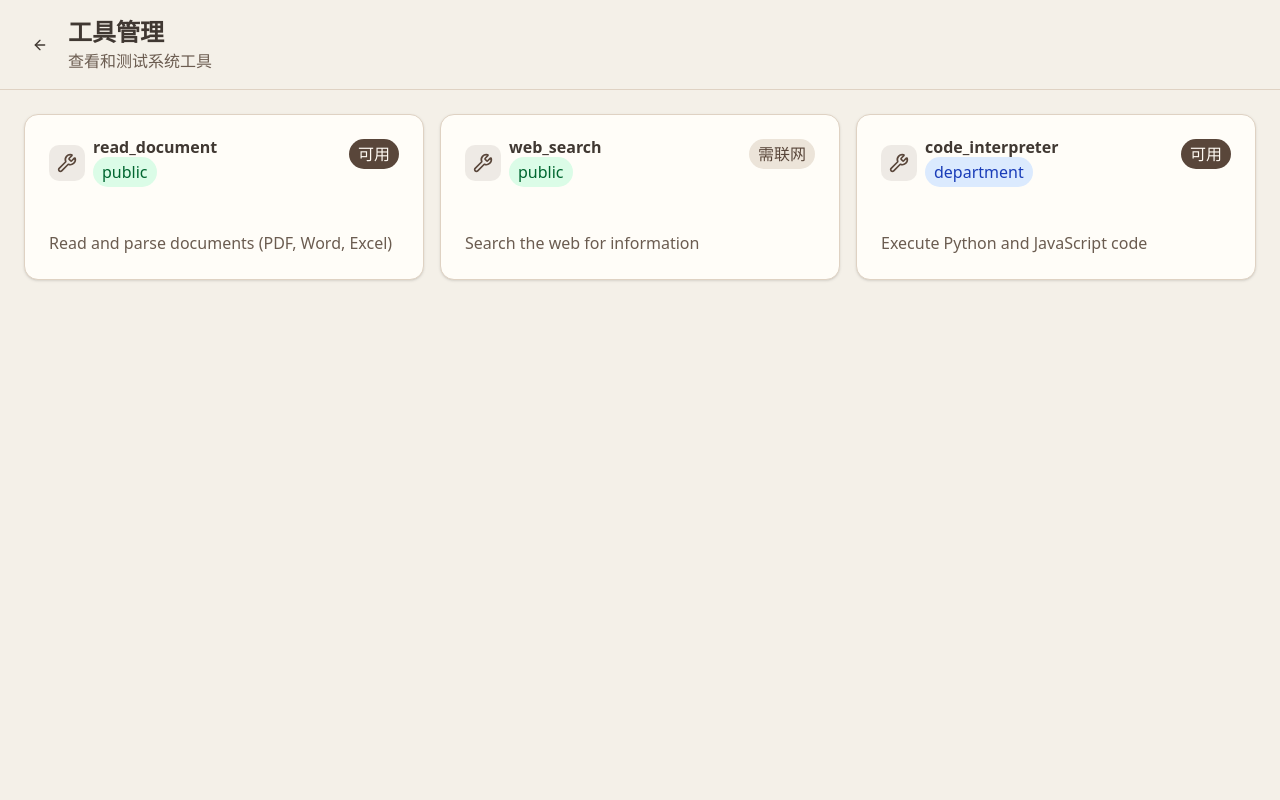
Test: ToolsPage › closes detail dialog when close button is clicked
Check: the element with test id "tool-list" is shown, box [24, 114, 1256, 280]
Click the element with test id "tool-card" at (224, 197), box [24, 114, 424, 280]
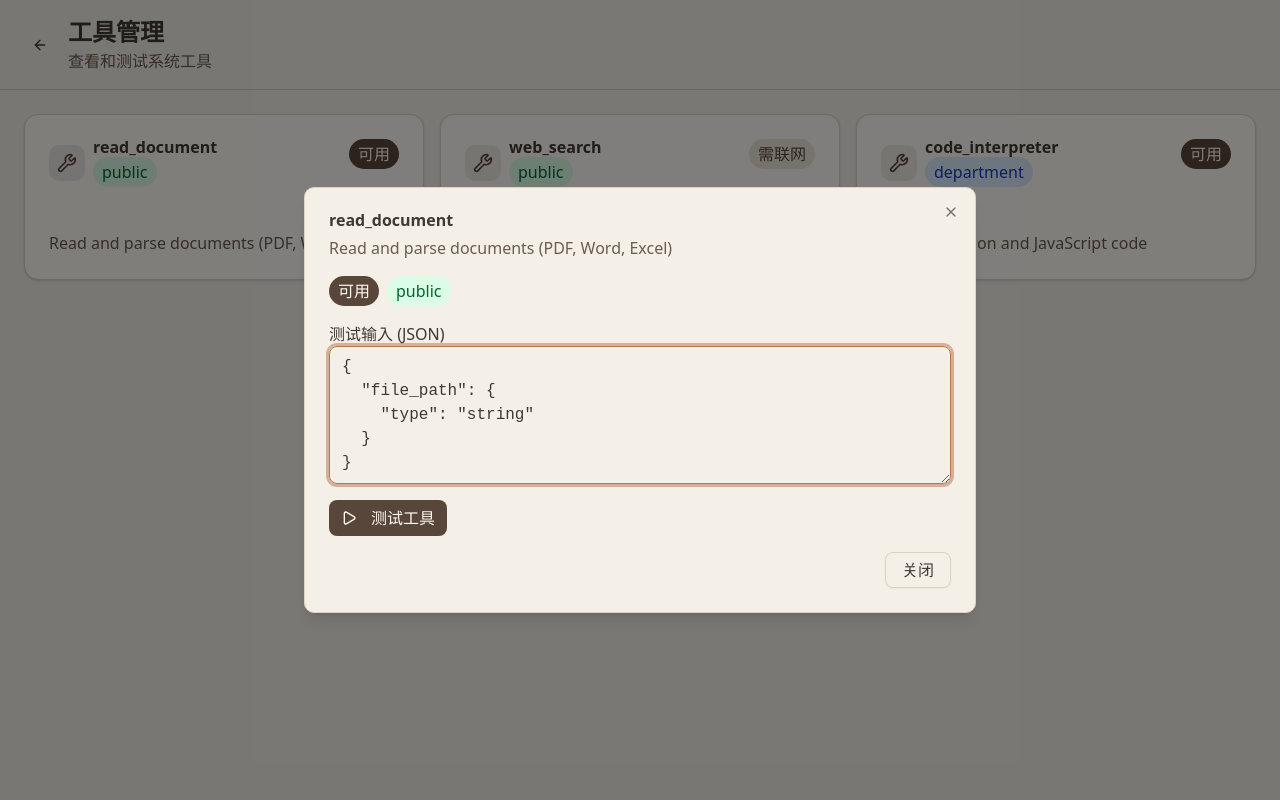
Check: the button "测试工具" is shown, box [329, 500, 447, 536]
Click the button "关闭" at (918, 570), box [885, 552, 951, 588]
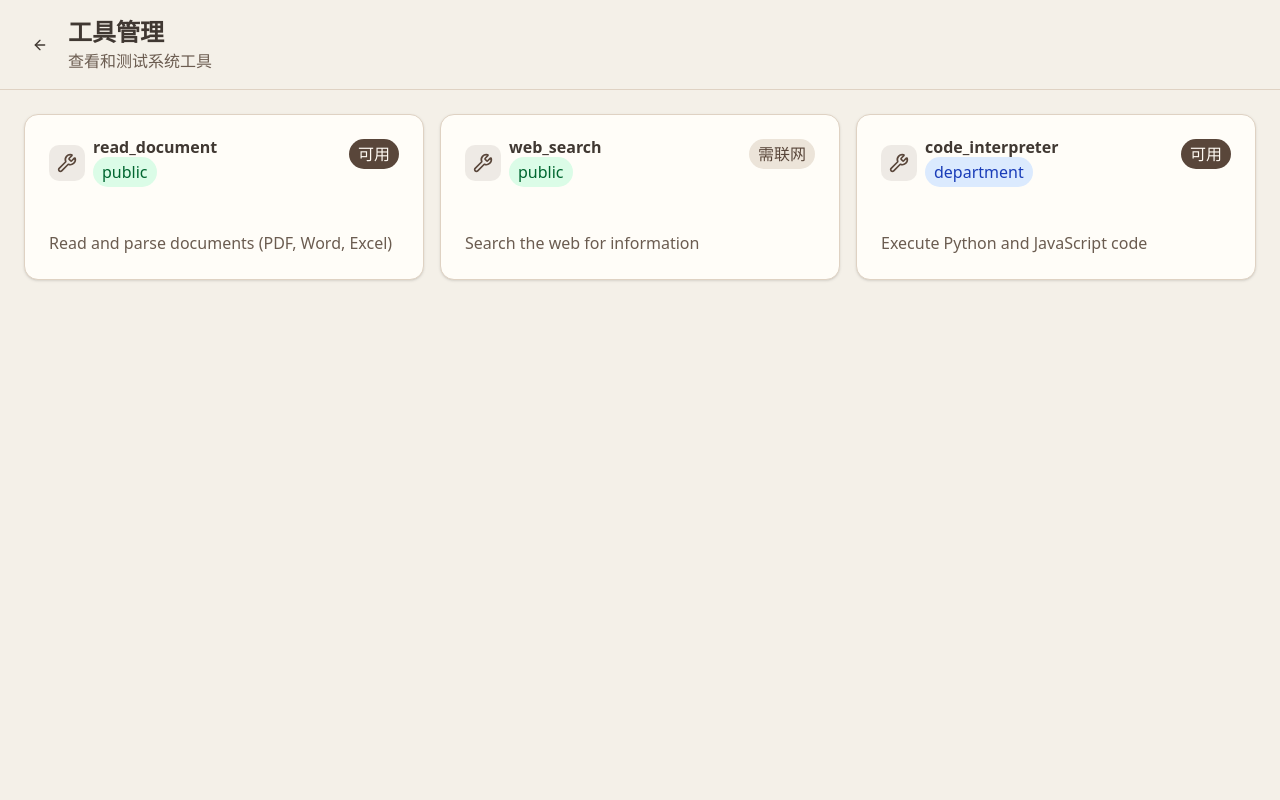
Check: the button "测试工具" is gone
